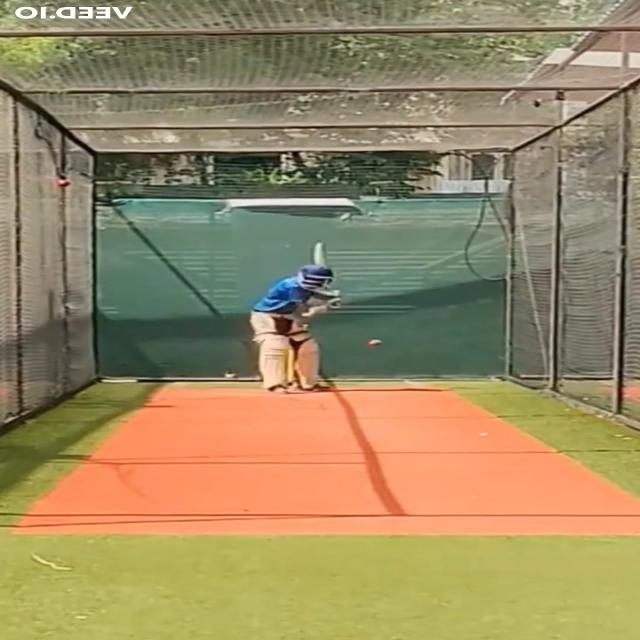ball: (366, 338, 386, 348)
